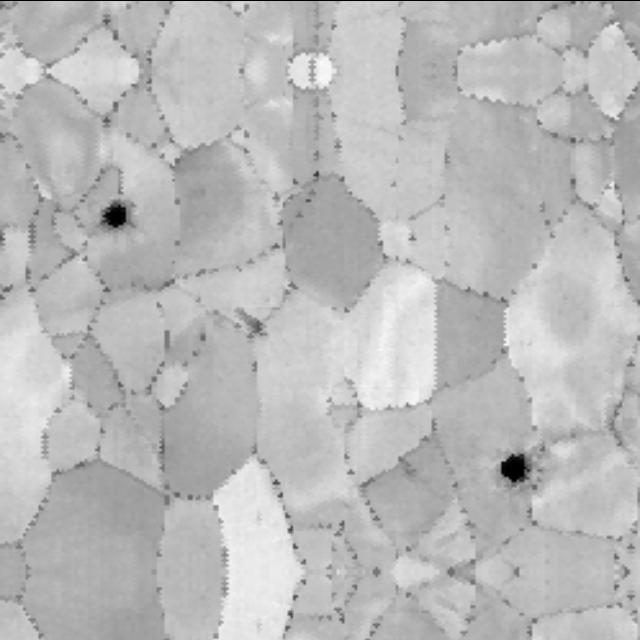good_void: (100, 172, 143, 252), (484, 446, 532, 497), (234, 303, 269, 338)
